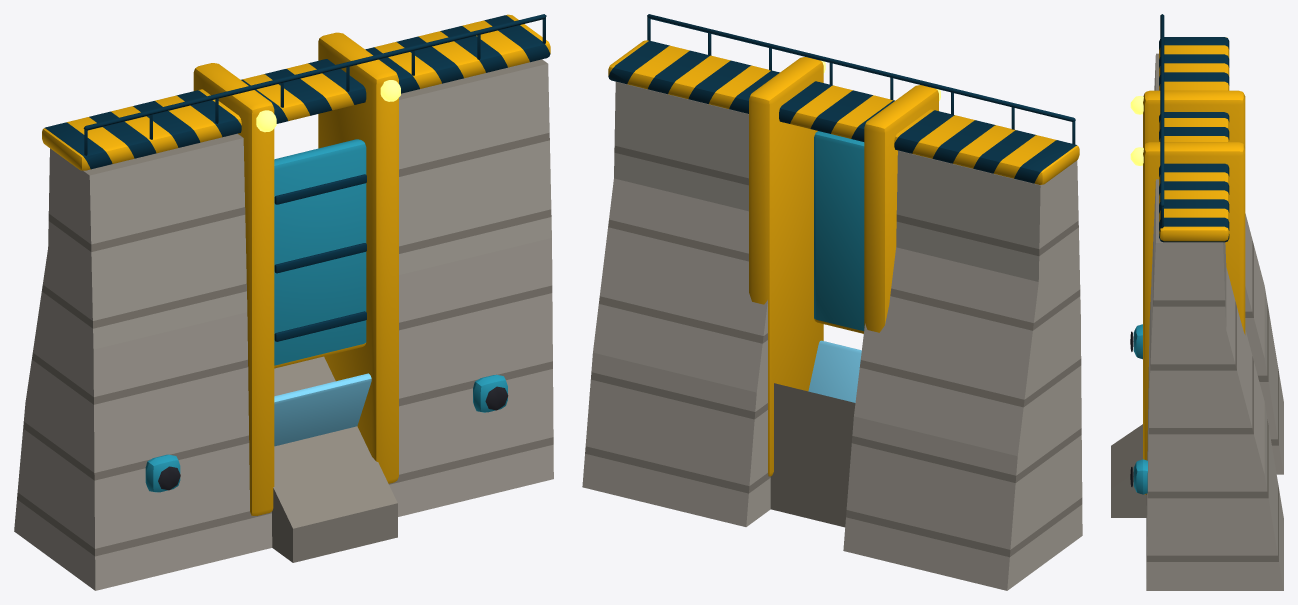
Rendered from W5_Dam.fbx.
3 views of the same model, side by side, from view 1: azimuth 30°, elevation 25°; view 2: azimuth 150°, elevation 25°; view 3: azimuth 270°, elevation 25° (orthographic). The views are drawn at different scales.
Parts seen in each view (by area): view 1: Static, Gate; view 2: Static, Gate; view 3: Static.
Part boxes in pixels (bbox=[...]): Static: bbox=[14, 14, 553, 590]; Gate: bbox=[274, 139, 366, 368]; Static: bbox=[582, 14, 1082, 590]; Gate: bbox=[814, 131, 864, 333]; Static: bbox=[1111, 14, 1283, 590].
Bounding box in the file's own units: 14.4 × 13.37 × 5.4.
